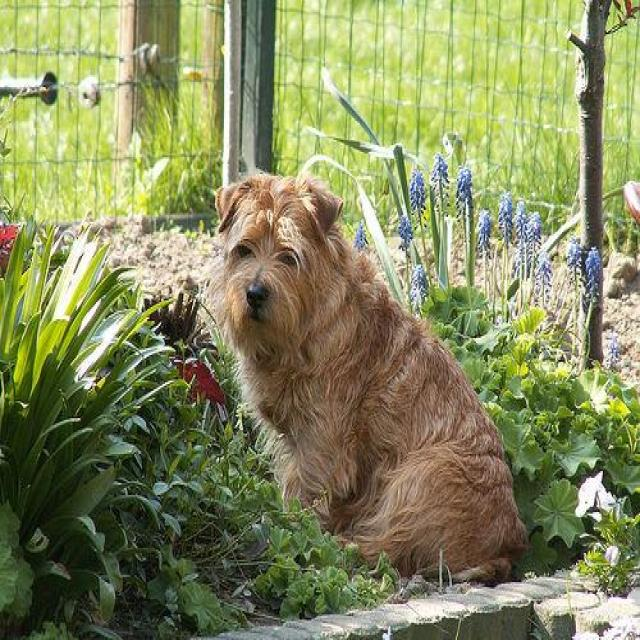dogs: (197, 155, 533, 602)
